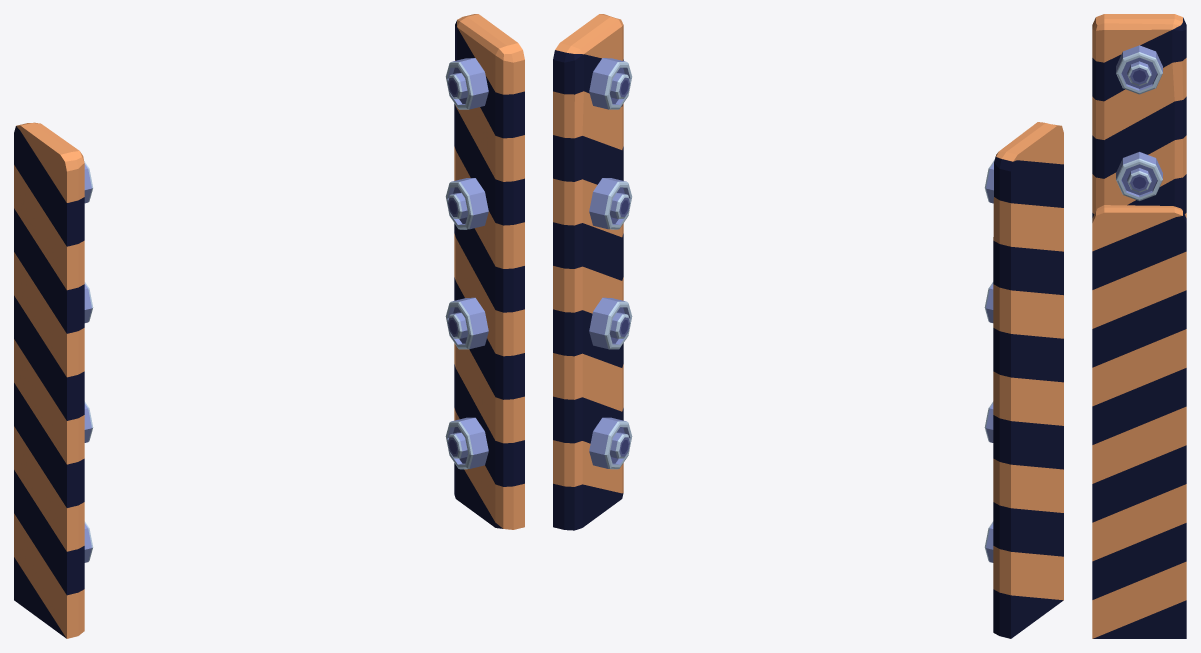
Rendered from UFO_ElectroGate.fbx.
3 renders of one model, left to right at view 1: azimuth 30°, elevation 25°; view 2: azimuth 150°, elevation 25°; view 3: azimuth 270°, elevation 25°, orthographic. The views are drawn at different scales.
Visible parts, largest first — view 1: Cube.006; view 2: Cube.006; view 3: Cube.006.
Boxes of the visible parts, left/top/right/bottom form: Cube.006: left=14, top=14, right=524, bottom=638; Cube.006: left=553, top=14, right=1063, bottom=638; Cube.006: left=1092, top=14, right=1186, bottom=638.
Size of the model in its own units: 2 by 2 by 0.4.
